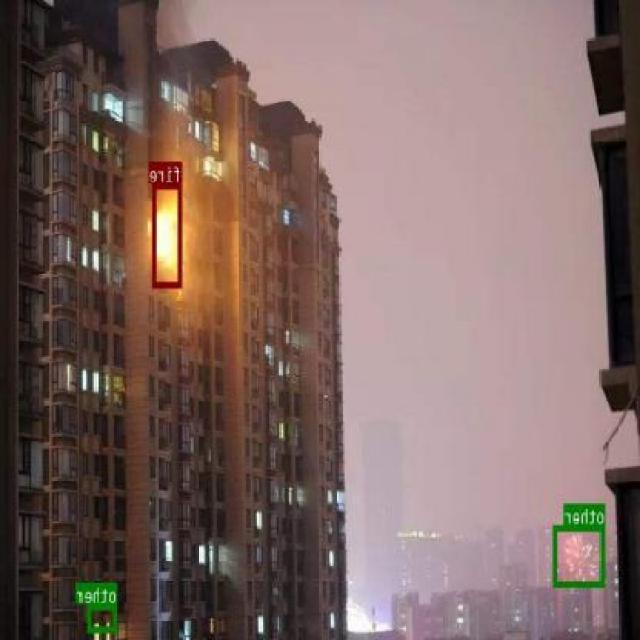Fire: (154, 182, 182, 287)
